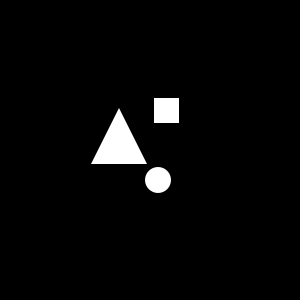circle: (154, 98, 179, 123)
rectangle: (145, 167, 171, 193)
triangle: (91, 108, 147, 164)
